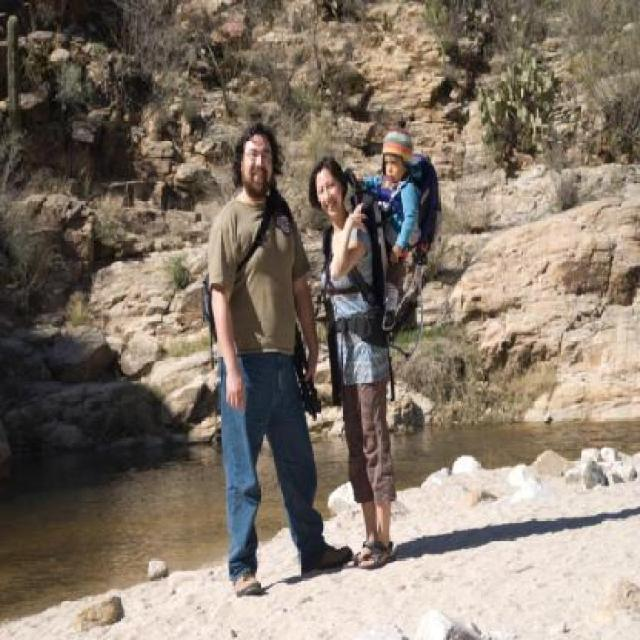backpack: (411, 149, 446, 285), (236, 190, 278, 276), (200, 274, 215, 341)
